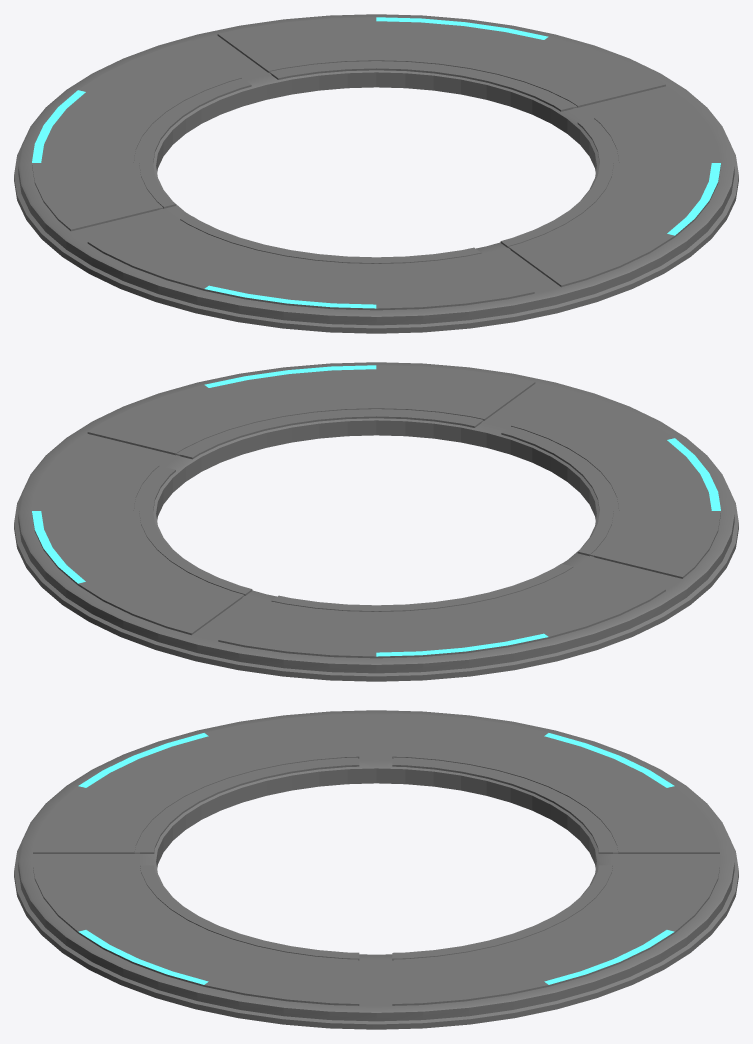
File: Ring_04.fbx
3 views of the same model, one above another, from view 1: azimuth 30°, elevation 25°; view 2: azimuth 150°, elevation 25°; view 3: azimuth 270°, elevation 25° (orthographic).
Visible parts, largest first — view 1: Ring_Outer_009; view 2: Ring_Outer_009; view 3: Ring_Outer_009.
Boxes of the visible parts, box(x1,y1,x2,y2) form: Ring_Outer_009: box(14, 14, 738, 333); Ring_Outer_009: box(14, 362, 738, 681); Ring_Outer_009: box(14, 710, 738, 1029).
Bounding box in the file's own units: 26.31 × 0.7082 × 26.31.
